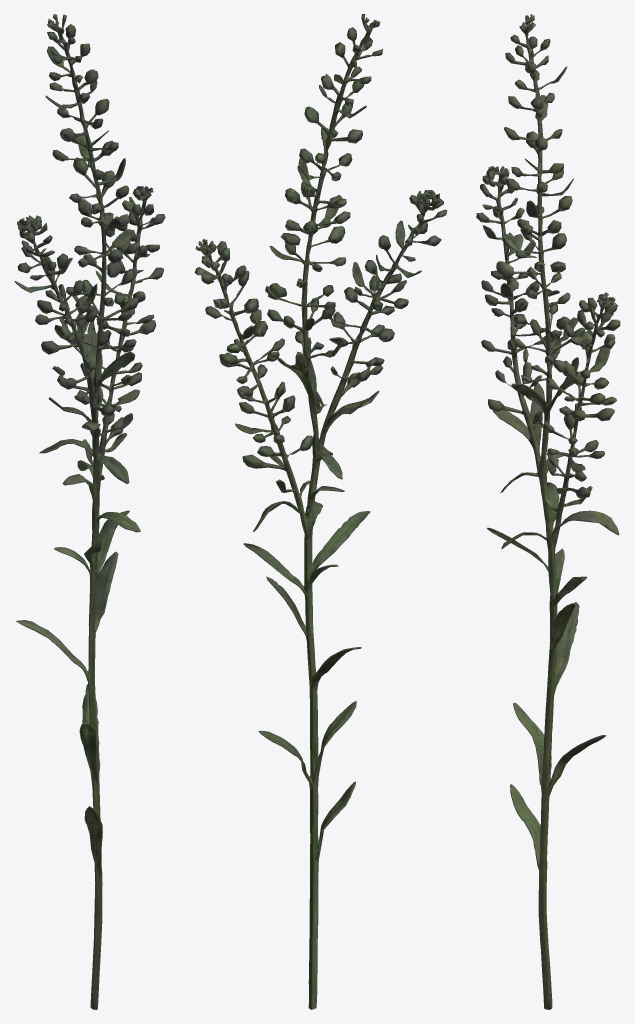
Rendered from sprig_olive.glb.
3 renders of one model, left to right at view 1: azimuth 30°, elevation 25°; view 2: azimuth 150°, elevation 25°; view 3: azimuth 270°, elevation 25°, orthographic. The views are drawn at different scales.
Bounding box in the file's own units: 0.3846 × 1.9 × 0.2556.
1 material, 1 textured.
